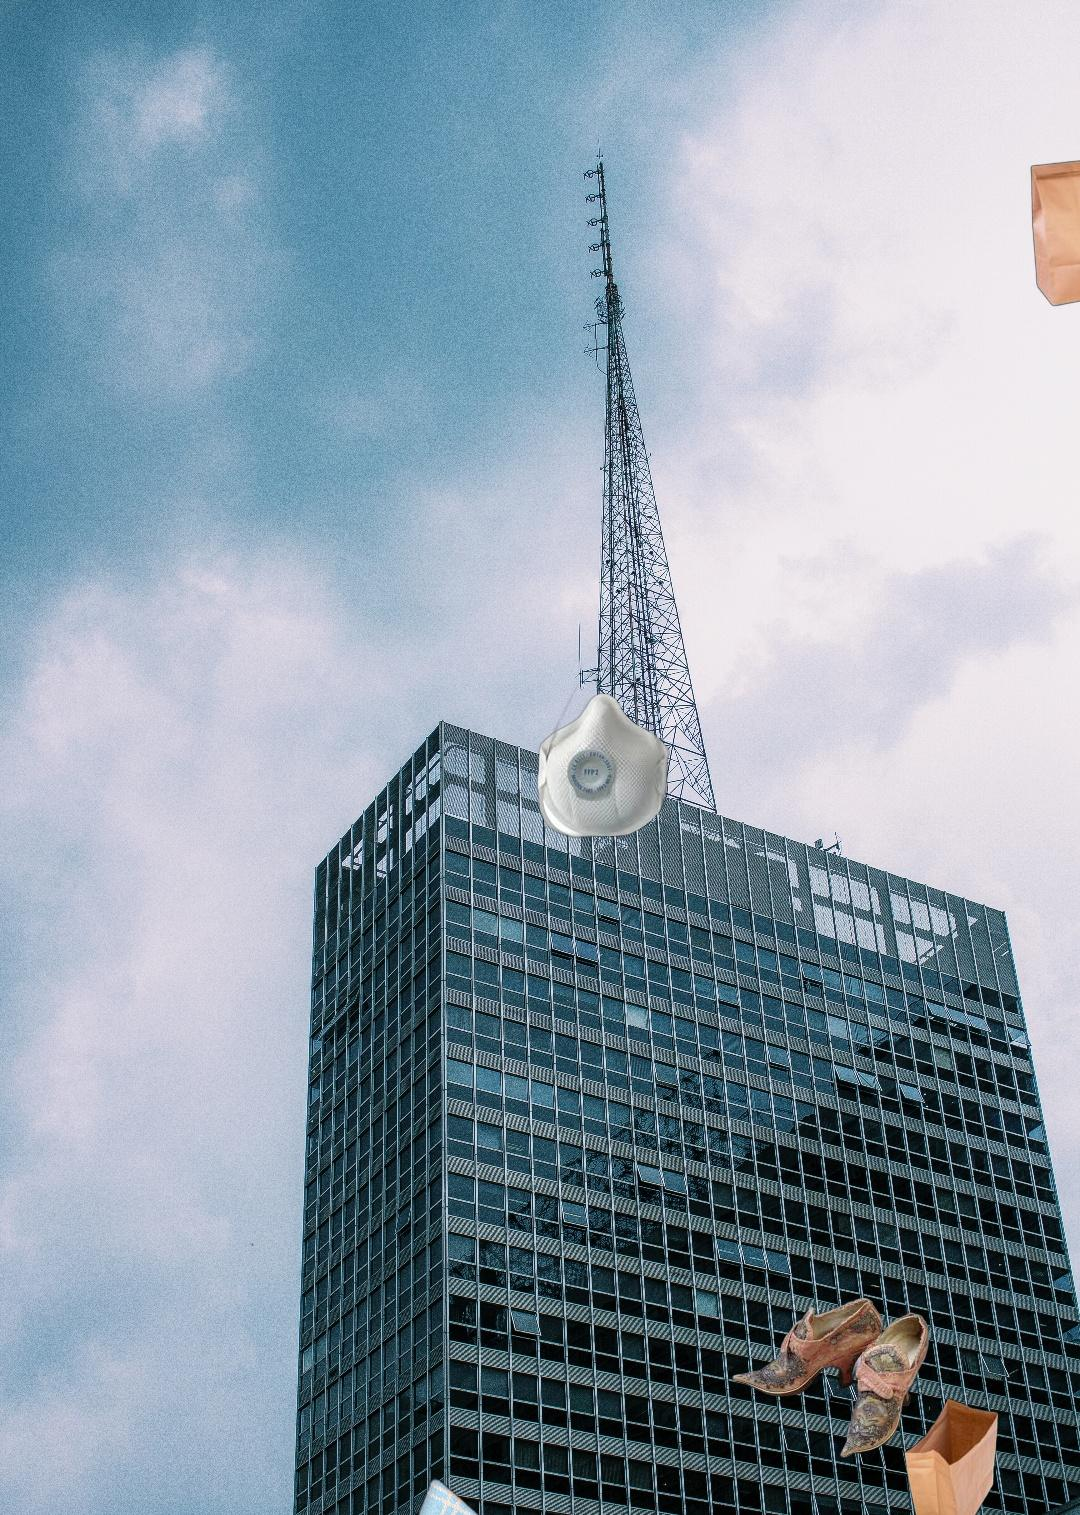paper-bag: (849, 1395, 1015, 1515), (1029, 151, 1080, 309)
plastic-bottles: (335, 1473, 605, 1515)
shoes: (731, 1295, 932, 1461)
trash: (534, 666, 690, 872)
